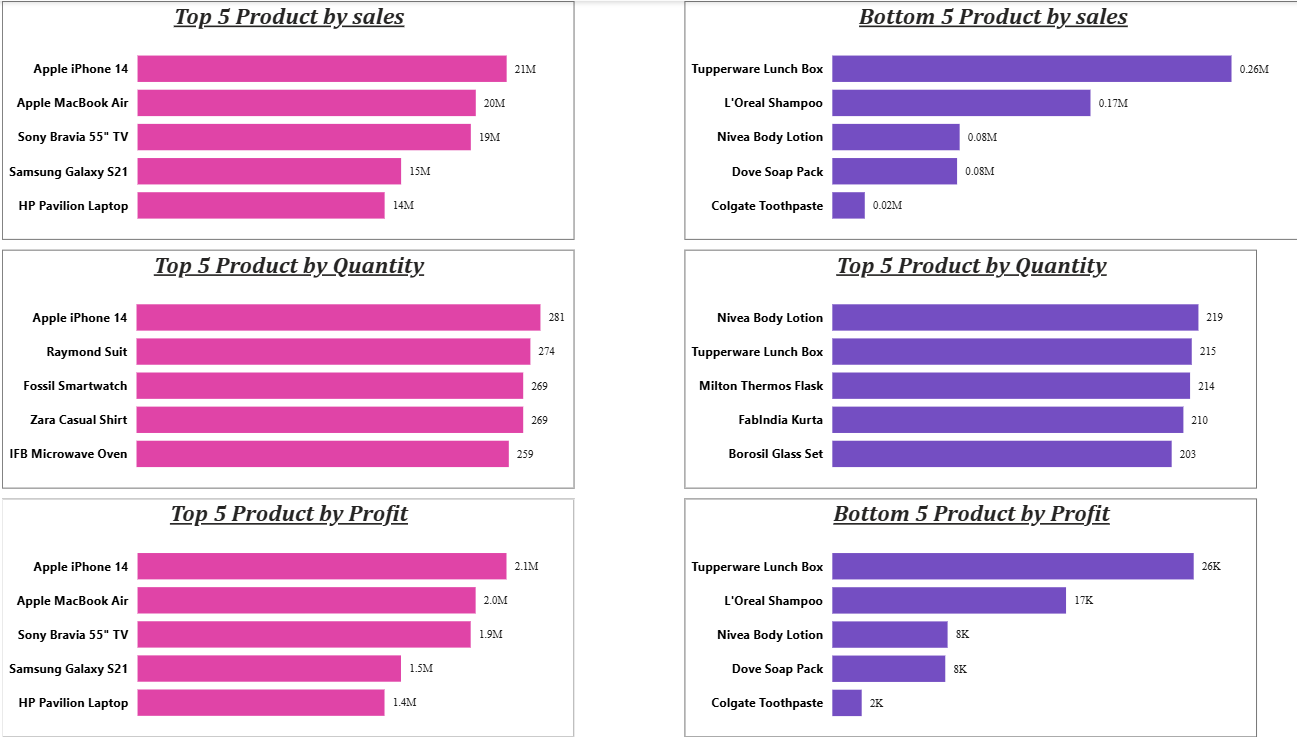

This screenshot's page, from the dashboard's own definition file:
{"tool":"powerbi","page":{"name":"Top/Bottom 5 Analysis","canvas":[1280,720],"ordinal":1},"visuals":[{"type":"barChart","title":"Top 5 Product by sales","fields":{"Y":["Sum(Fact Table.Net Sales)"],"Category":["Dim Product.Product Name"]},"box":[9.8,0,560.1,233.6],"z":0},{"type":"barChart","title":"Bottom 5 Product by sales","fields":{"Y":["Sum(Fact Table.Net Sales)"],"Category":["Dim Product.Product Name"]},"box":[677.4,0,602.9,233.6],"z":1000},{"type":"barChart","title":"Top 5 Product by Quantity","fields":{"Category":["Dim Product.Product Name"],"Y":["Sum(Fact Table.Units Sold)"]},"box":[9.6,242.9,559.9,233.3],"z":2000},{"type":"barChart","title":"Top 5 Product by Quantity","fields":{"Category":["Dim Product.Product Name"],"Y":["Sum(Fact Table.Units Sold)"]},"box":[677.9,242.9,559.9,233.3],"z":3000},{"type":"barChart","title":"Top 5 Product by Profit","fields":{"Category":["Dim Product.Product Name"],"Y":["Sum(Fact Table.Profit)"]},"box":[9.6,487.1,559.9,233.3],"z":4000},{"type":"barChart","title":"Bottom 5 Product by Profit","fields":{"Category":["Dim Product.Product Name"],"Y":["Sum(Fact Table.Profit)"]},"box":[677.4,486.7,560.1,233.6],"z":5000}]}

Visuals, with their boxes in screenshot pixels (x1, y1, x2, y2), scaled from the page's 1280x720 canvas onto the 1297x737 screenshot:
"Top 5 Product by sales" barChart: 10,0,577,239
"Bottom 5 Product by sales" barChart: 686,0,1296,239
"Top 5 Product by Quantity" barChart: 10,249,577,487
"Top 5 Product by Quantity" barChart: 687,249,1254,487
"Top 5 Product by Profit" barChart: 10,499,577,736
"Bottom 5 Product by Profit" barChart: 686,498,1254,736
